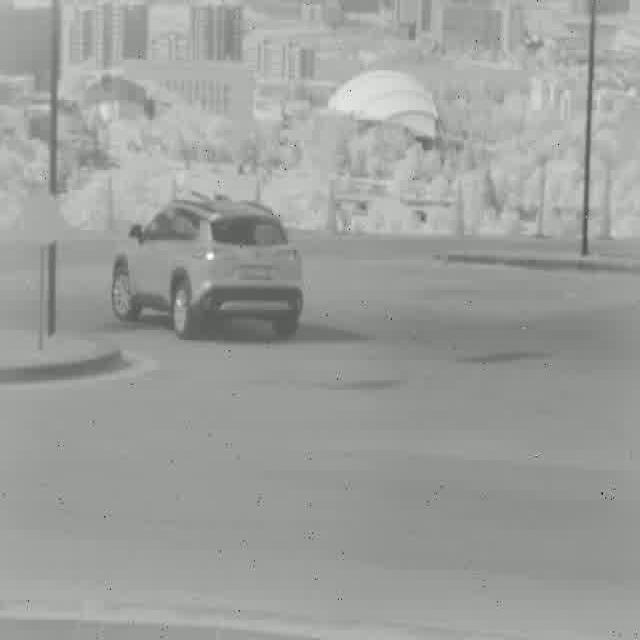Car: (111, 198, 302, 343)
